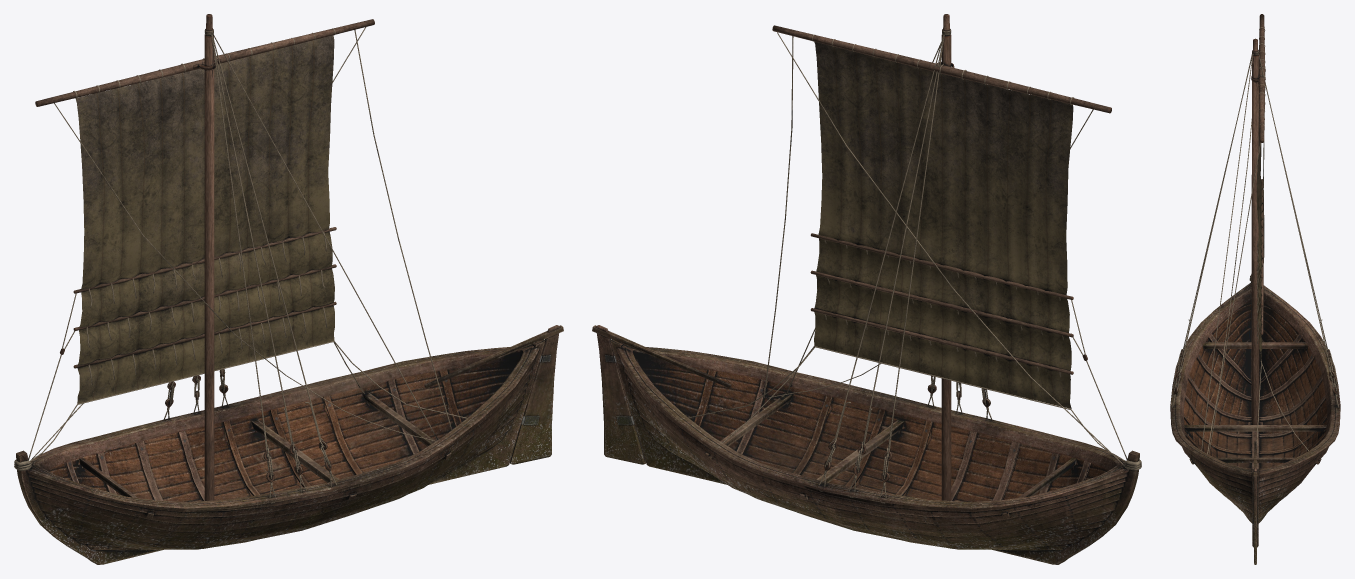
3 renders of one model, left to right at view 1: azimuth 30°, elevation 25°; view 2: azimuth 150°, elevation 25°; view 3: azimuth 270°, elevation 25°, orthographic. The views are drawn at different scales.
Visible parts, largest first — view 1: Boat.001; view 2: Boat.001; view 3: Boat.001.
Part boxes in pixels (<box>): Boat.001: <box>14,14,563,564</box>; Boat.001: <box>592,14,1141,564</box>; Boat.001: <box>1170,14,1340,564</box>.
Size of the model in its own units: 1302 by 1193 by 462.
